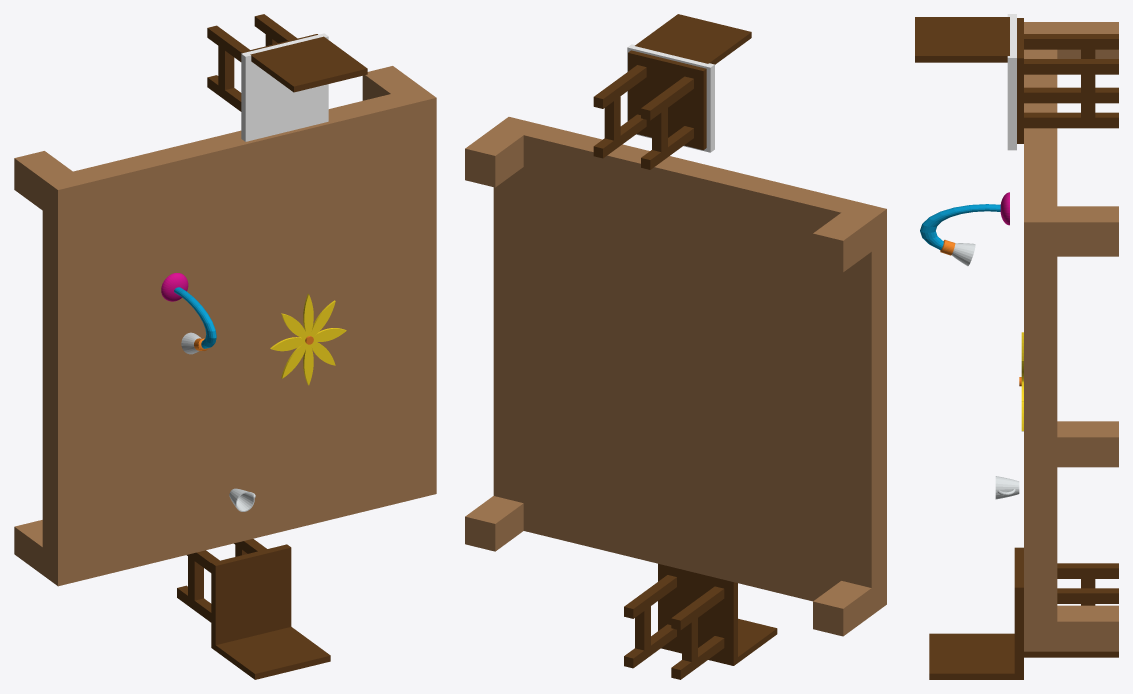
The model's file is tinker.obj.
3 renders of one model, left to right at view 1: azimuth 30°, elevation 25°; view 2: azimuth 150°, elevation 25°; view 3: azimuth 270°, elevation 25°, orthographic. The views are drawn at different scales.
Visible parts, largest first — view 1: group_0_11107152, group_0_6306067, group_0_16448250, group_0_16768282, group_0_14541540, group_0_40919; view 2: group_0_11107152, group_0_6306067, group_0_16448250; view 3: group_0_11107152, group_0_6306067, group_0_16448250, group_0_40919, group_0_14541540.
Boxes of the visible parts, left/top/right/bottom form: group_0_11107152: left=14, top=66, right=436, bottom=586; group_0_6306067: left=177, top=14, right=367, bottom=679; group_0_16448250: left=241, top=33, right=328, bottom=141; group_0_16768282: left=270, top=294, right=346, bottom=385; group_0_14541540: left=181, top=332, right=255, bottom=511; group_0_40919: left=174, top=287, right=216, bottom=348; group_0_11107152: left=465, top=117, right=886, bottom=636; group_0_6306067: left=593, top=14, right=777, bottom=679; group_0_16448250: left=627, top=44, right=714, bottom=152; group_0_11107152: left=1024, top=22, right=1118, bottom=651; group_0_6306067: left=915, top=17, right=1118, bottom=679; group_0_16448250: left=1007, top=14, right=1016, bottom=150; group_0_40919: left=920, top=204, right=1000, bottom=249; group_0_14541540: left=952, top=243, right=1019, bottom=499.
Size of the model in its own units: 100 by 149 by 43.
